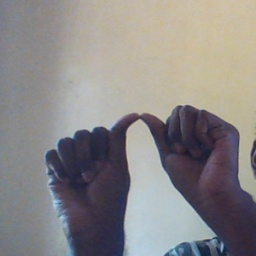A: (43, 102, 241, 219)
